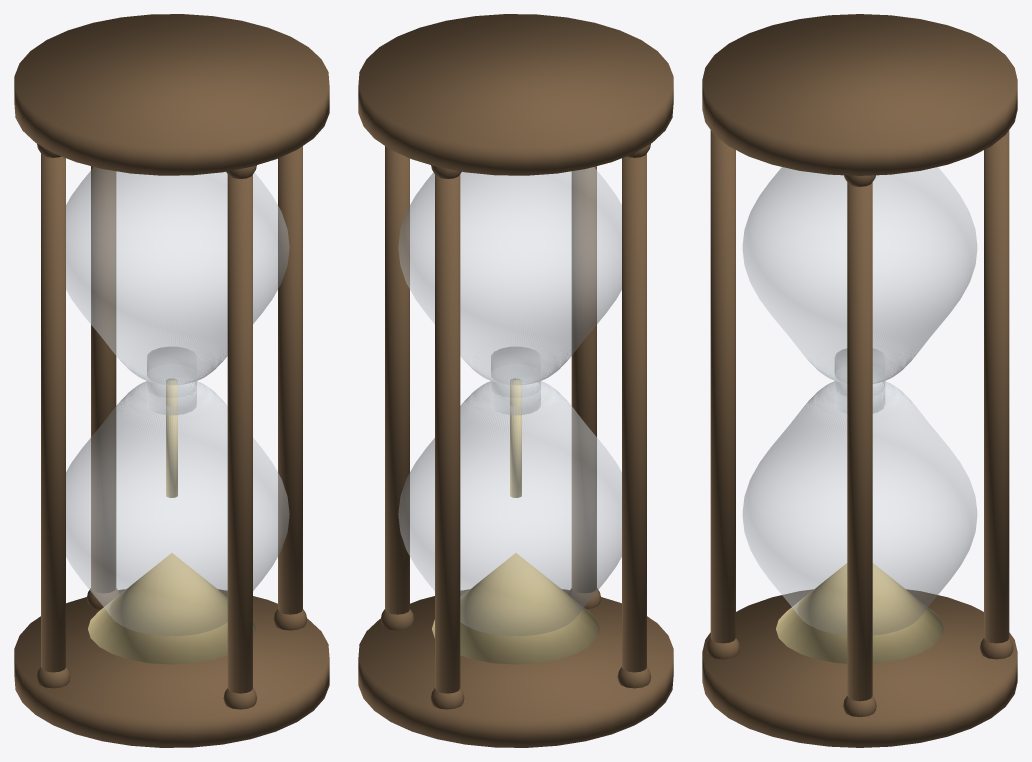
Rendered from hourglass.glb.
The picture shows the model from 3 angles, left to right: view 1: azimuth 30°, elevation 25°; view 2: azimuth 150°, elevation 25°; view 3: azimuth 270°, elevation 25°; orthographic projection.
Parts seen in each view (by area): view 1: hourglass; view 2: hourglass; view 3: hourglass.
Part boxes in pixels (x1,y1,x2,y2): hourglass: (14, 14, 329, 747); hourglass: (358, 14, 673, 747); hourglass: (702, 14, 1017, 747).
Bounding box in the file's own units: 0.15 × 0.315 × 0.15.
